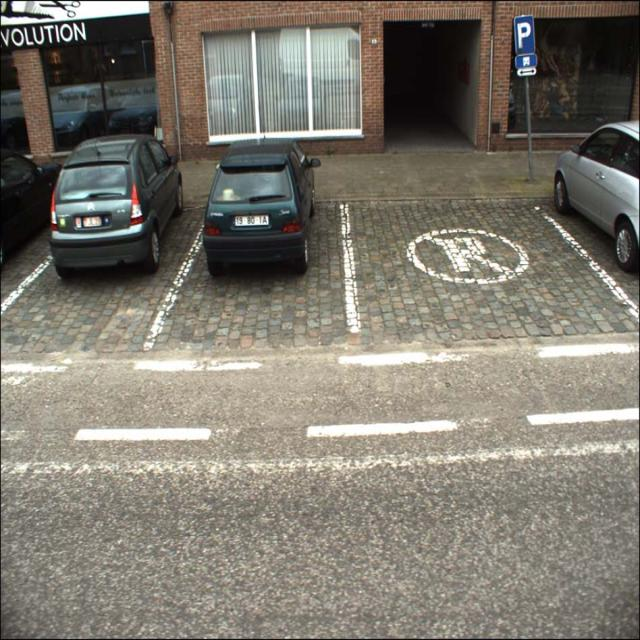park: (514, 15, 534, 54)
